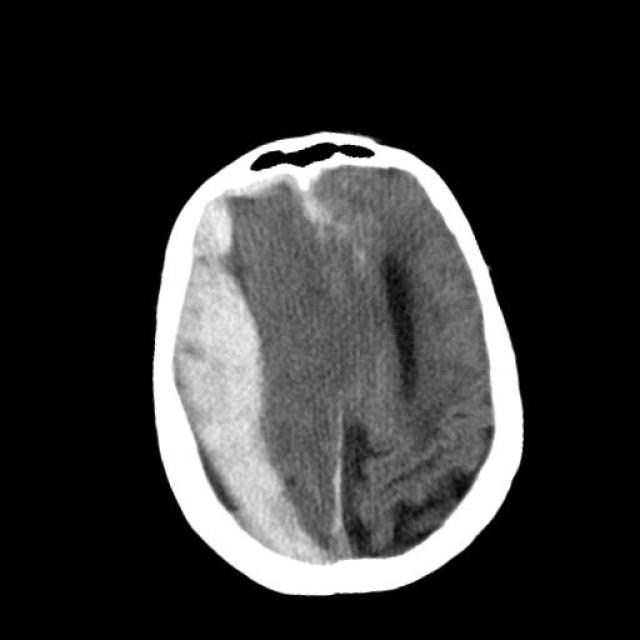Subdural: (122, 194, 340, 605), (226, 154, 352, 232)
